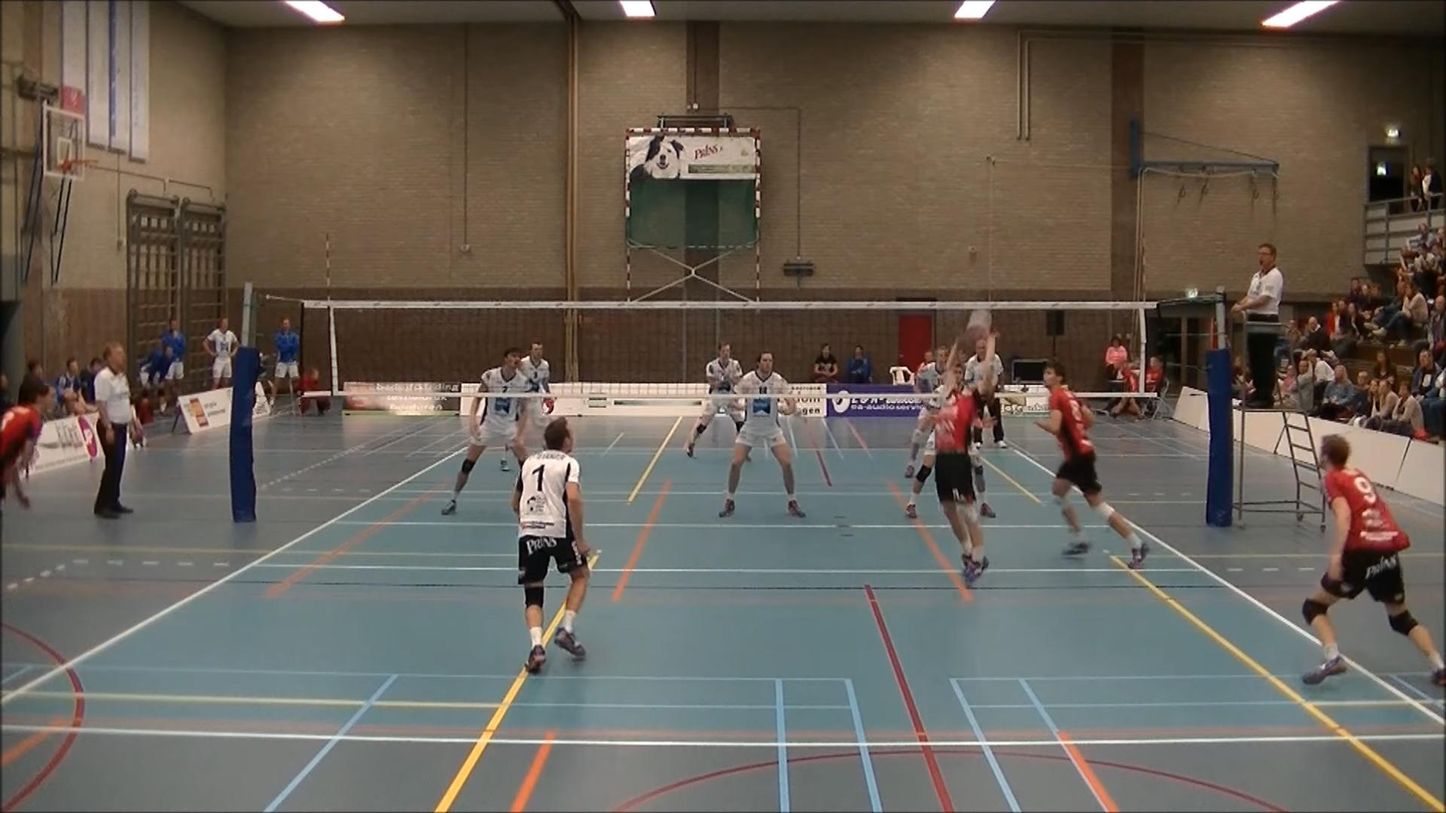alzata: (933, 330, 1000, 588)
